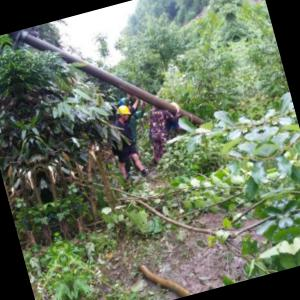helmet: (113, 103, 133, 125)
